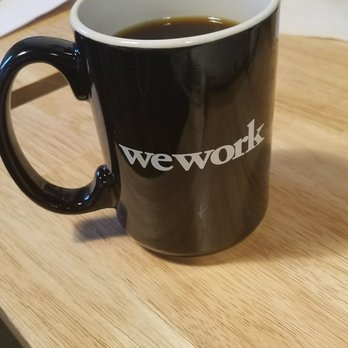wework: (117, 116, 266, 173)
